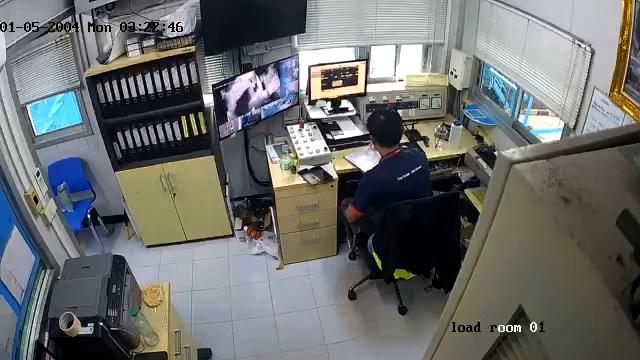Head: (366, 109, 404, 148)
People: (349, 108, 434, 223)
Phone: (298, 167, 321, 186), (309, 165, 333, 183)
